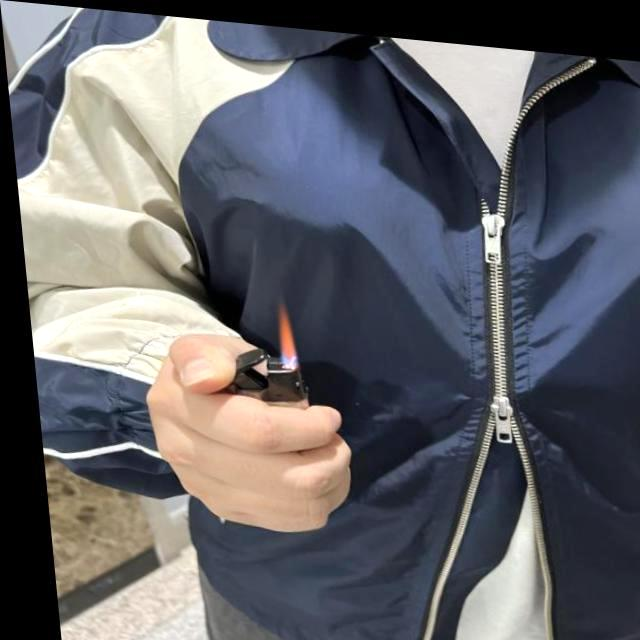fire: (266, 299, 292, 363)
